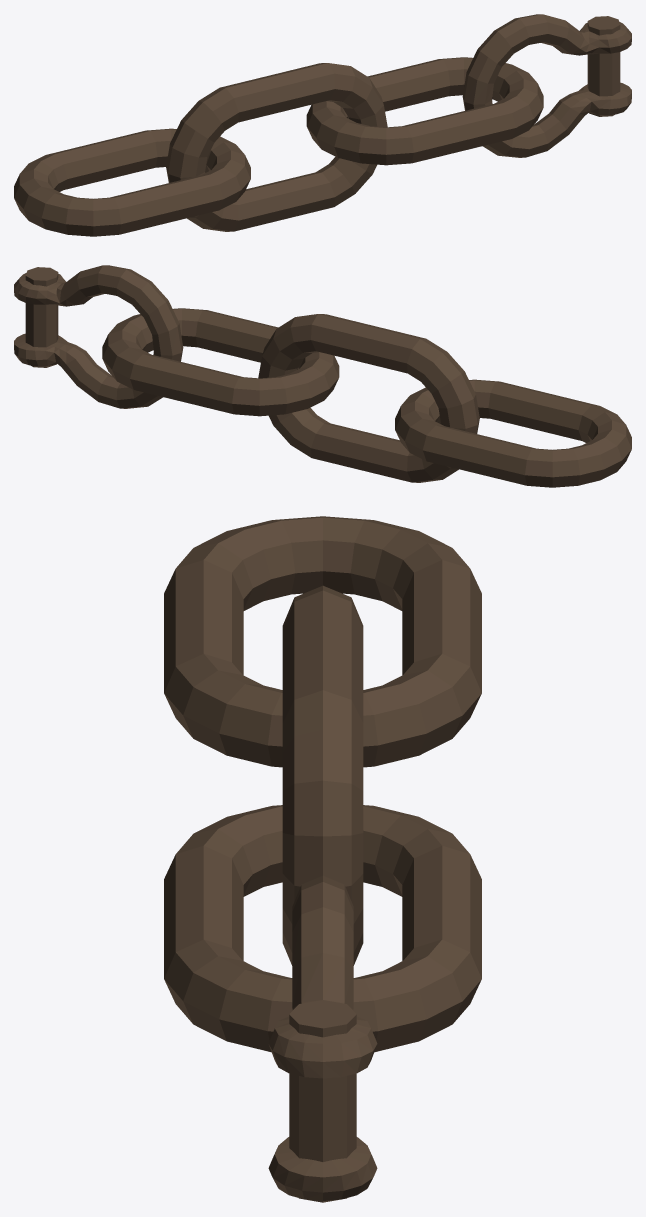
The model's file is wip_part2.glb.
3 views of the same model, one above another, from view 1: azimuth 30°, elevation 25°; view 2: azimuth 150°, elevation 25°; view 3: azimuth 270°, elevation 25° (orthographic). The views are drawn at different scales.
Visible parts, largest first — view 1: product-7dd0758c-c311-4ed3-91f2-9de5d92e3a93-body, product-8f61a623-95fb-45dc-9704-d019b9f38b3b-body, product-3d025fbe-f4f0-47c9-a83e-63e25334e936-body, product-f7b17597-6ac0-438e-bbe2-2838e5c48235-body; view 2: product-7dd0758c-c311-4ed3-91f2-9de5d92e3a93-body, product-8f61a623-95fb-45dc-9704-d019b9f38b3b-body, product-3d025fbe-f4f0-47c9-a83e-63e25334e936-body, product-f7b17597-6ac0-438e-bbe2-2838e5c48235-body; view 3: product-8f61a623-95fb-45dc-9704-d019b9f38b3b-body, product-3d025fbe-f4f0-47c9-a83e-63e25334e936-body, product-7dd0758c-c311-4ed3-91f2-9de5d92e3a93-body, product-f7b17597-6ac0-438e-bbe2-2838e5c48235-body.
Part boxes in pixels (x1,y1,x2,y2): product-7dd0758c-c311-4ed3-91f2-9de5d92e3a93-body: (166,63,387,231); product-8f61a623-95fb-45dc-9704-d019b9f38b3b-body: (14,128,250,236); product-3d025fbe-f4f0-47c9-a83e-63e25334e936-body: (306,57,543,165); product-f7b17597-6ac0-438e-bbe2-2838e5c48235-body: (462,14,631,157); product-7dd0758c-c311-4ed3-91f2-9de5d92e3a93-body: (258,314,479,482); product-8f61a623-95fb-45dc-9704-d019b9f38b3b-body: (395,379,631,487); product-3d025fbe-f4f0-47c9-a83e-63e25334e936-body: (102,308,339,416); product-f7b17597-6ac0-438e-bbe2-2838e5c48235-body: (14,265,183,408); product-8f61a623-95fb-45dc-9704-d019b9f38b3b-body: (164,516,481,767); product-3d025fbe-f4f0-47c9-a83e-63e25334e936-body: (164,805,481,1052); product-7dd0758c-c311-4ed3-91f2-9de5d92e3a93-body: (282,585,363,965); product-f7b17597-6ac0-438e-bbe2-2838e5c48235-body: (268,875,377,1202).
Bounding box in the file's own units: 0.45 × 0.1024 × 0.1024.
